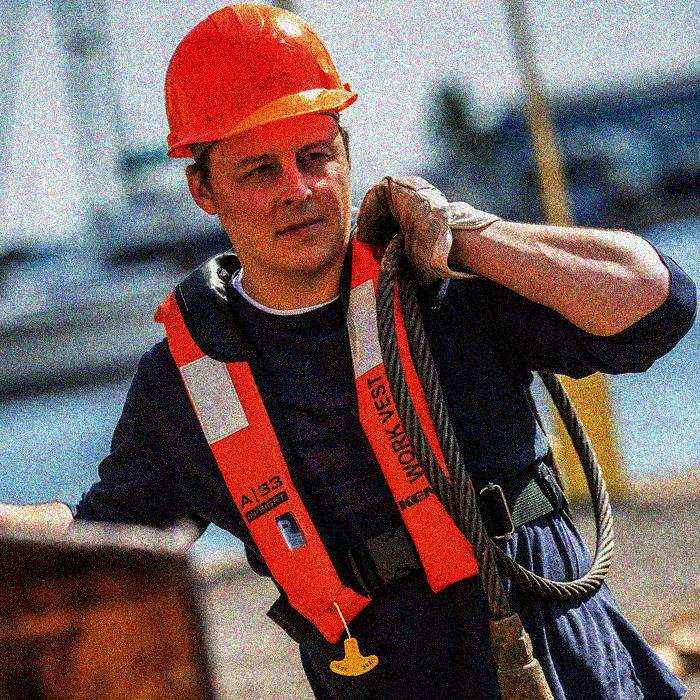helmet: (161, 1, 362, 266)
